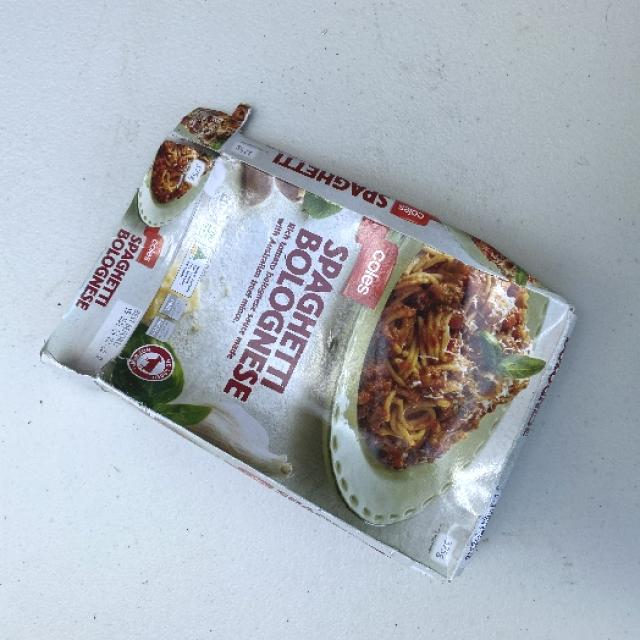kertas: (35, 98, 578, 584)
